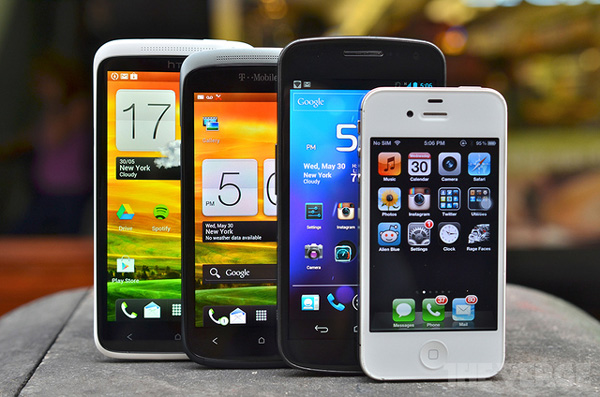Phone: (276, 34, 449, 378), (91, 36, 260, 364), (356, 83, 509, 381), (178, 44, 313, 371)
